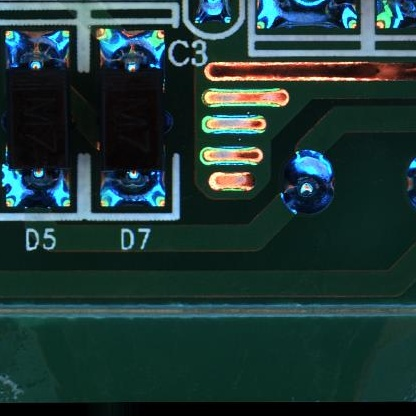spot: (281, 150, 336, 218)
